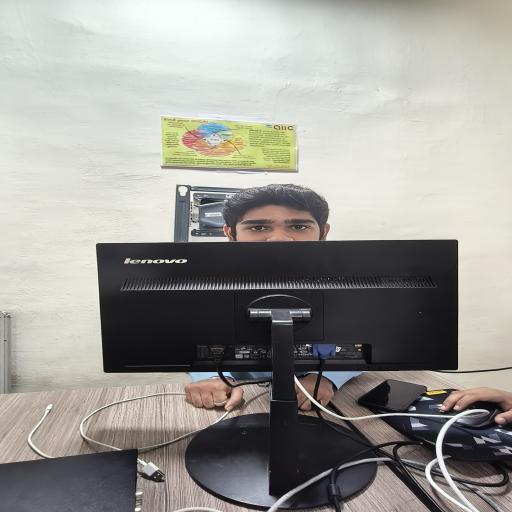survivor: (183, 184, 363, 412)
